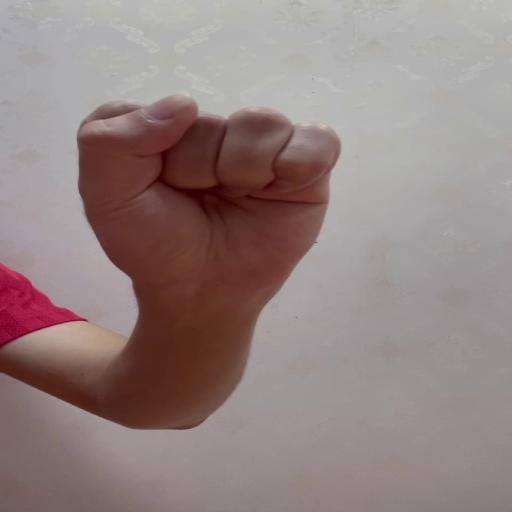fist: (76, 87, 343, 286)
